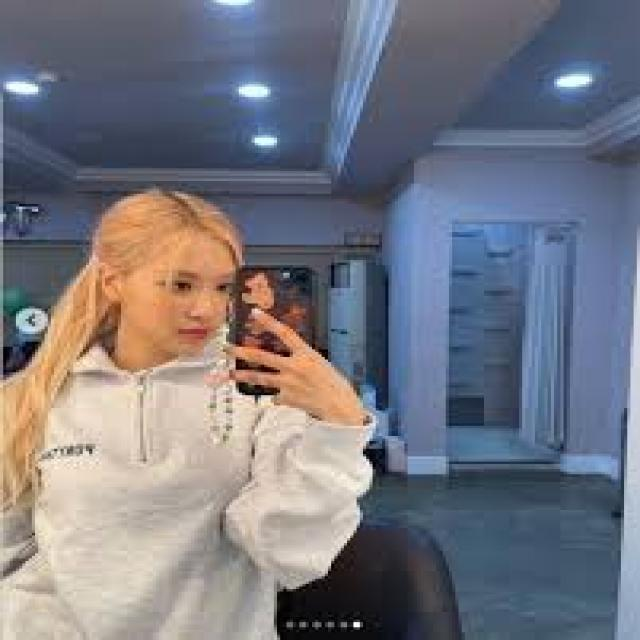Phone: (233, 265, 316, 396)
